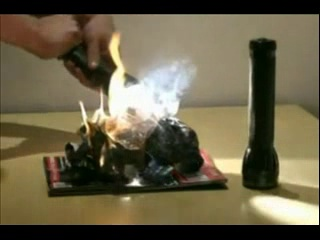fire: (76, 30, 125, 169)
smoke: (127, 58, 198, 122)
